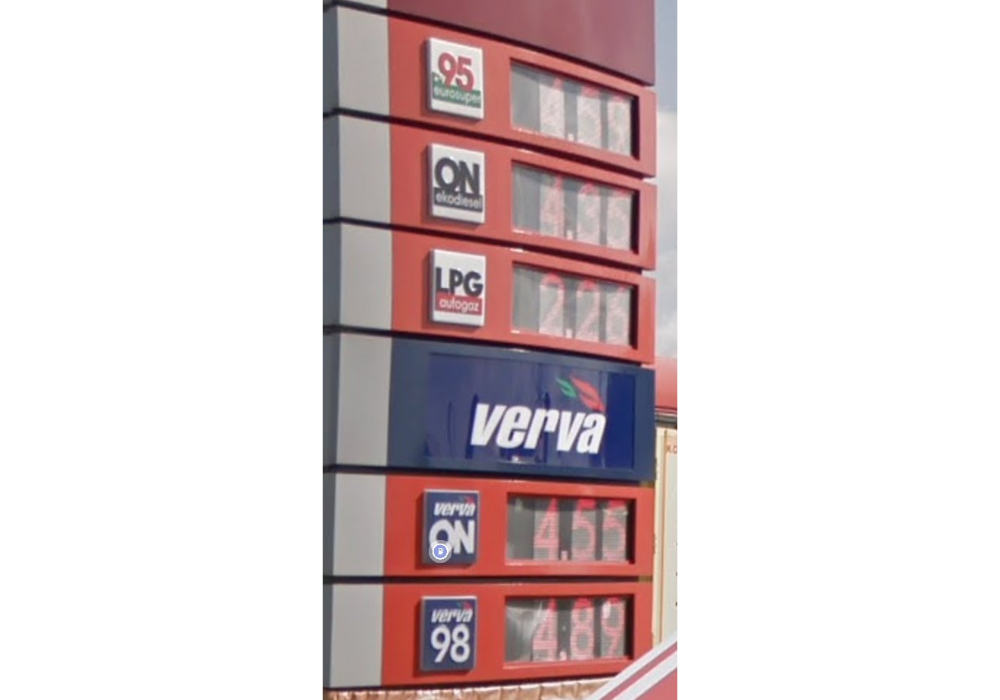LPG: (428, 248, 487, 331)
ON: (427, 140, 488, 230), (419, 489, 480, 566)
PB95: (422, 32, 488, 123)
PB98: (421, 594, 475, 673)
